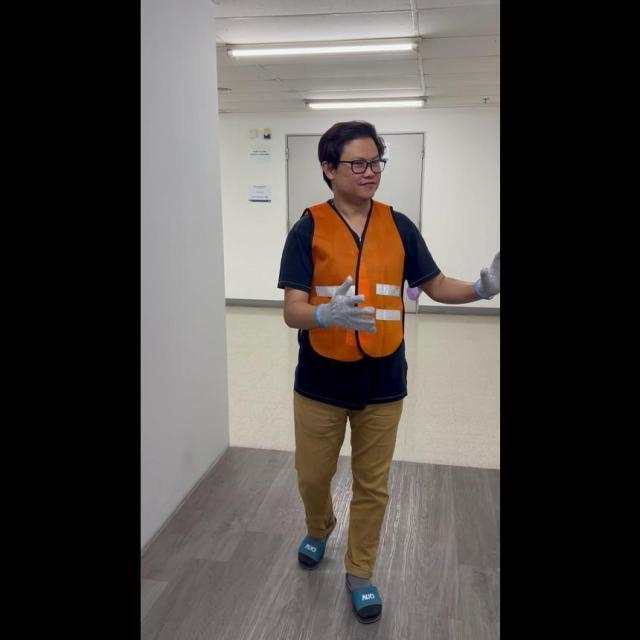gloved_hand: (312, 272, 377, 333), (471, 242, 499, 301)
